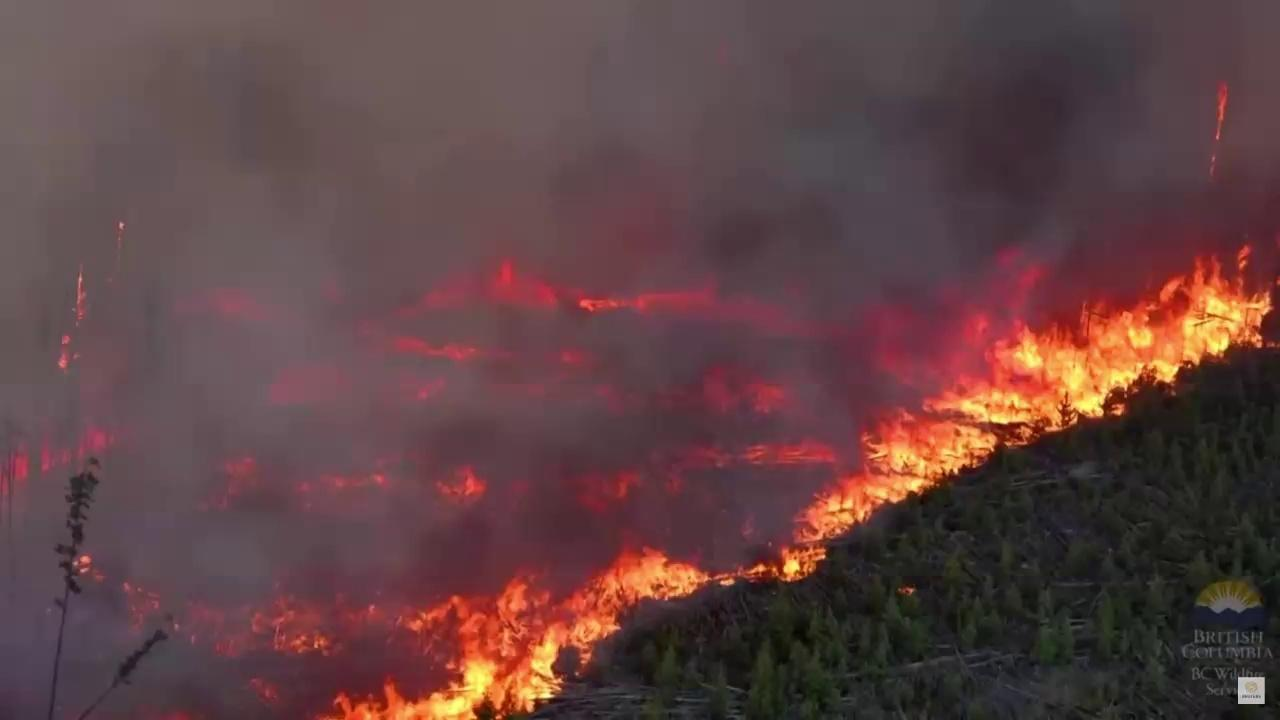fire: (0, 233, 1280, 720), (0, 416, 123, 497), (170, 283, 273, 324), (352, 339, 512, 364), (196, 451, 260, 511), (269, 368, 358, 411), (290, 468, 388, 501), (1205, 76, 1234, 182), (117, 578, 162, 638), (431, 463, 489, 504), (246, 673, 285, 712), (411, 374, 452, 406), (129, 704, 205, 720), (68, 553, 107, 583), (72, 263, 87, 327), (55, 334, 73, 375), (504, 476, 531, 498)
smoke: (0, 0, 1280, 720)
